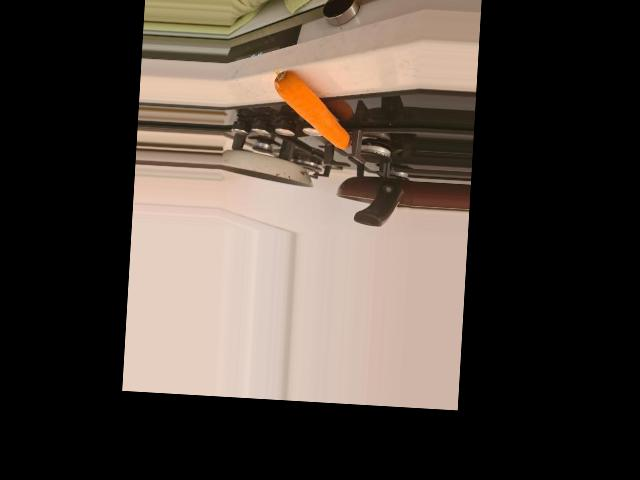carrot: (272, 67, 356, 151)
